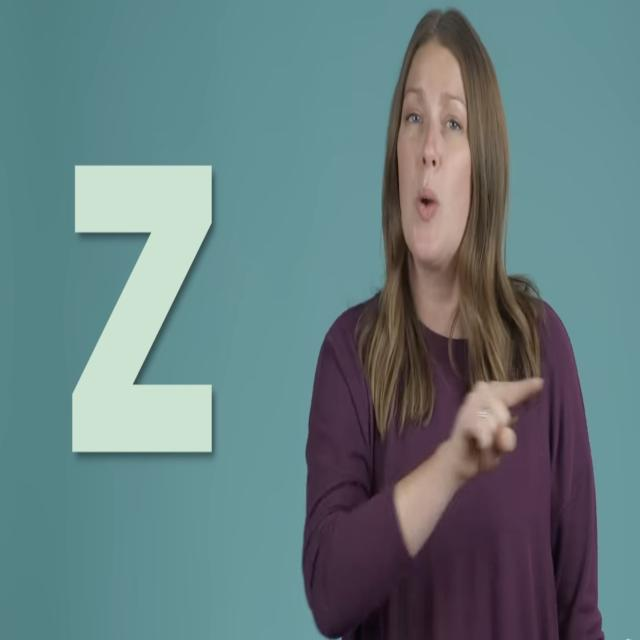Z: (447, 363, 557, 481)
